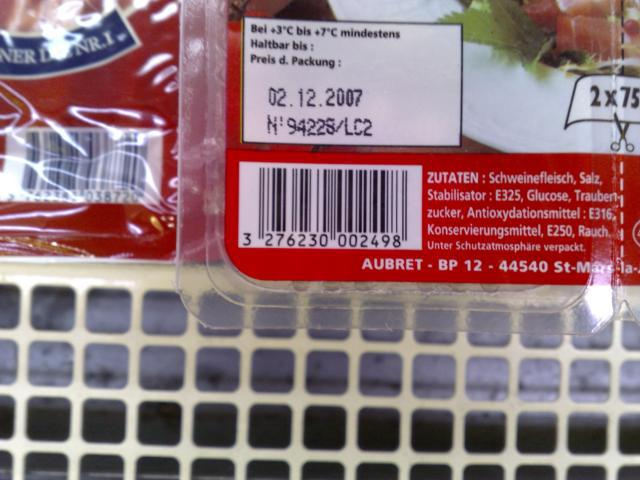Barkod: (256, 167, 406, 232), (20, 130, 148, 190)
